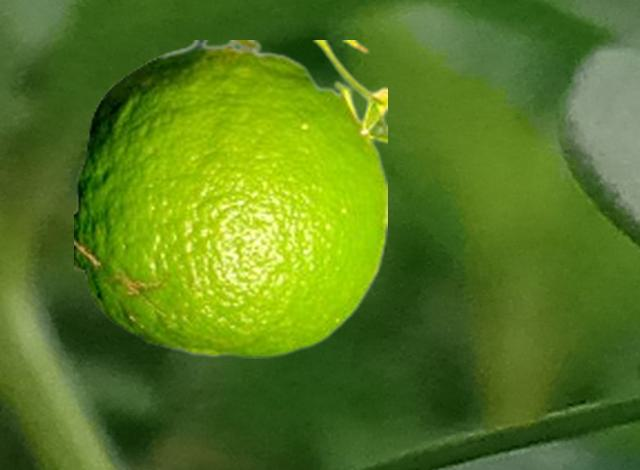dalandan: (74, 40, 386, 357)
